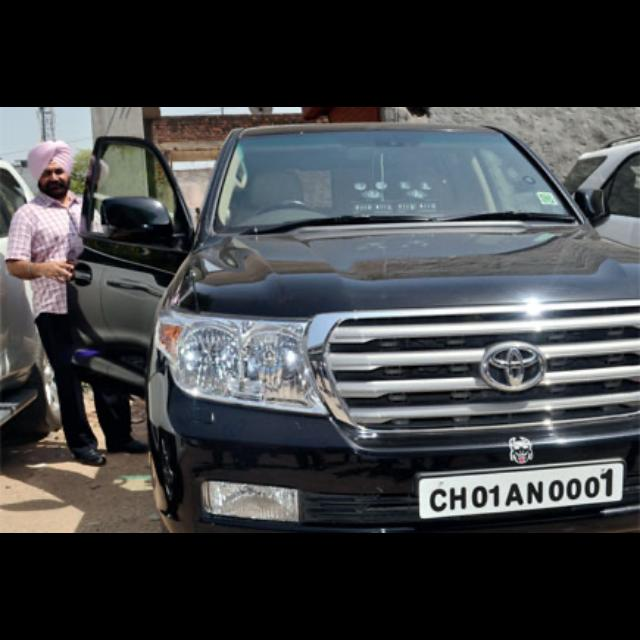carPlate: (419, 463, 623, 520)
